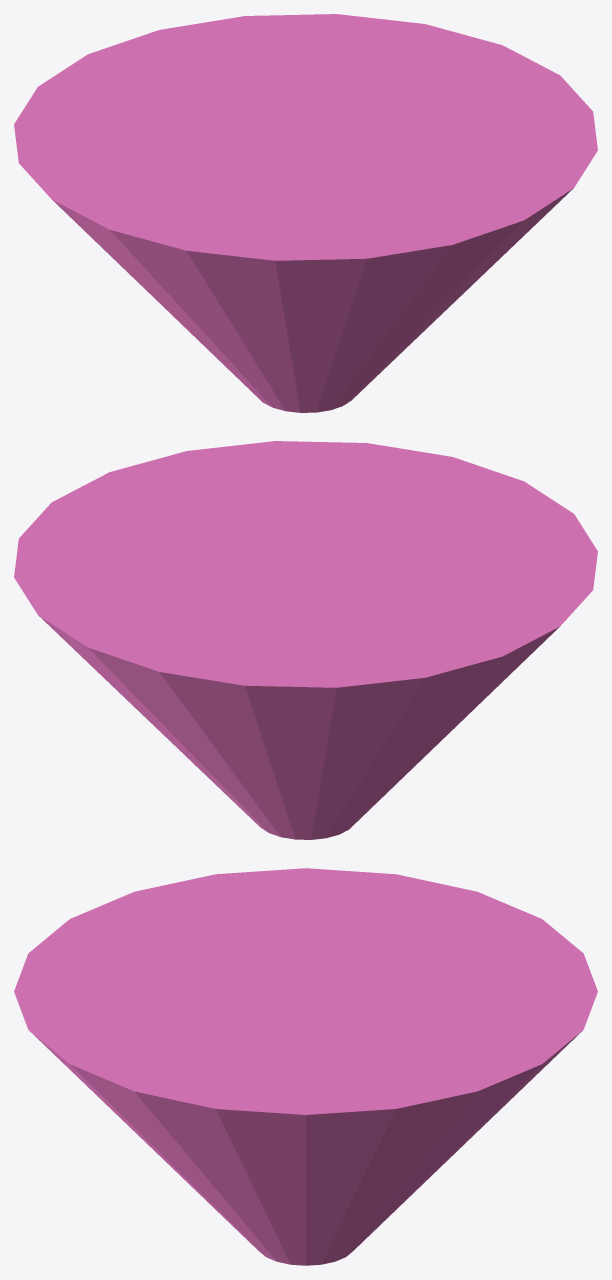
File: drink.fbx
The picture shows the model from 3 angles, top to bottom: view 1: azimuth 30°, elevation 25°; view 2: azimuth 150°, elevation 25°; view 3: azimuth 270°, elevation 25°; orthographic projection.
Visible parts, largest first — view 1: drink; view 2: drink; view 3: drink.
Boxes of the visible parts, bbox=[...] form: drink: bbox=[14, 14, 597, 412]; drink: bbox=[14, 441, 597, 839]; drink: bbox=[14, 868, 597, 1265].
Bounding box in the file's own units: 30.18 × 14.44 × 30.18.
